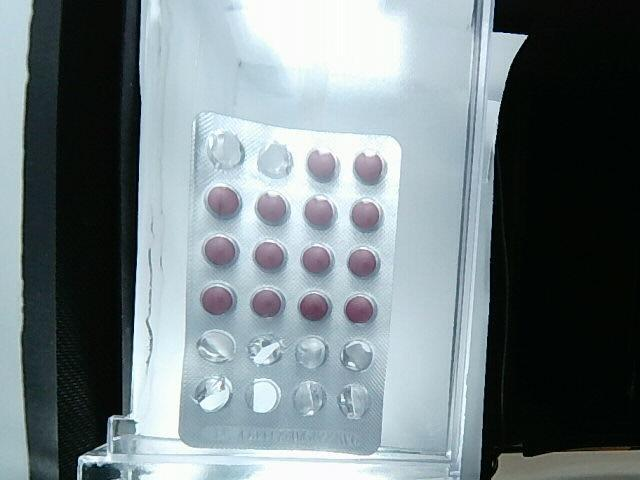Light Front: (177, 112, 403, 459)
No Pill Front: (206, 129, 244, 169), (193, 376, 233, 412), (196, 330, 236, 363), (248, 334, 288, 366), (258, 141, 293, 177), (246, 379, 281, 413), (293, 381, 326, 416), (338, 384, 370, 419), (295, 335, 328, 368), (340, 340, 372, 370)
Pill Front: (205, 184, 241, 219), (255, 190, 291, 225), (303, 194, 338, 229), (203, 234, 239, 267), (253, 239, 288, 272), (250, 286, 286, 317), (349, 199, 382, 232), (353, 151, 386, 184), (300, 244, 335, 275), (306, 149, 338, 182), (346, 246, 379, 277), (201, 284, 234, 315), (298, 291, 331, 321), (344, 294, 376, 324)
